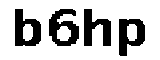6: (48, 8, 81, 53)
b: (11, 3, 42, 50)
h: (80, 6, 114, 51)
p: (113, 14, 149, 60)
